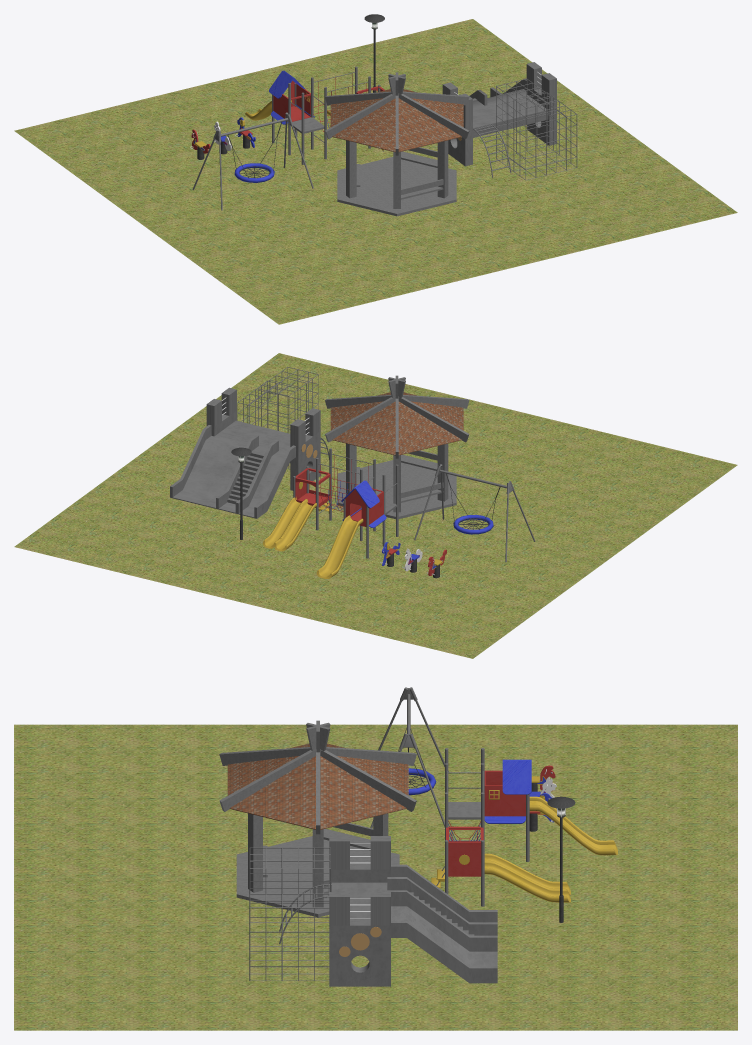
Rendered from park_facility_asset.glb.
The picture shows the model from 3 angles, top to bottom: view 1: azimuth 30°, elevation 25°; view 2: azimuth 150°, elevation 25°; view 3: azimuth 270°, elevation 25°; orthographic projection. The views are drawn at different scales.
Parts seen in each view (by area): view 1: Plane_grass_0, rest_2_concrete_1, slider_2_gray_0, rest_2_roof_0, slider_2_concrete_0, swing_D_R_0, swing_D_B_0, swing_D_metal_0; view 2: Plane_grass_0, slider_2_gray_0, rest_2_concrete_1, rest_2_roof_0, swing_D_Y_0, swing_D_R_0, slider_2_concrete_0, swing_D_B_0, swing_D_metal_0, slider_2_concrete.1_0; view 3: Plane_grass_0, slider_2_gray_0, rest_2_concrete_1, rest_2_roof_0, swing_D_Y_0, swing_D_R_0, swing_D_B_0, slider_2_concrete_0, swing_D_metal_0.
Part boxes in pixels (x1,y1,x2,y2): Plane_grass_0: (14,19,737,324); rest_2_concrete_1: (325,72,469,216); slider_2_gray_0: (192,62,577,210); rest_2_roof_0: (330,89,463,152); slider_2_concrete_0: (221,66,511,177); swing_D_R_0: (191,73,384,153); swing_D_B_0: (193,70,329,182); swing_D_metal_0: (197,14,384,178); Plane_grass_0: (14,353,737,658); slider_2_gray_0: (170,367,535,562); rest_2_concrete_1: (325,375,469,519); rest_2_roof_0: (330,392,463,455); swing_D_Y_0: (263,482,443,578); swing_D_R_0: (295,455,446,575); slider_2_concrete_0: (293,437,506,558); swing_D_B_0: (328,480,493,569); swing_D_metal_0: (231,447,500,578); slider_2_concrete.1_0: (227,451,264,504); Plane_grass_0: (14,724,737,1030); slider_2_gray_0: (249,687,497,986); rest_2_concrete_1: (219,720,416,917); rest_2_roof_0: (227,743,408,829); swing_D_Y_0: (431,776,617,902); swing_D_R_0: (446,765,555,876); swing_D_B_0: (408,759,553,841); slider_2_concrete_0: (279,694,529,944); swing_D_metal_0: (398,727,575,922).
Size of the model in its own units: 2000 by 465 by 2000.
13 materials, 10 textured.
